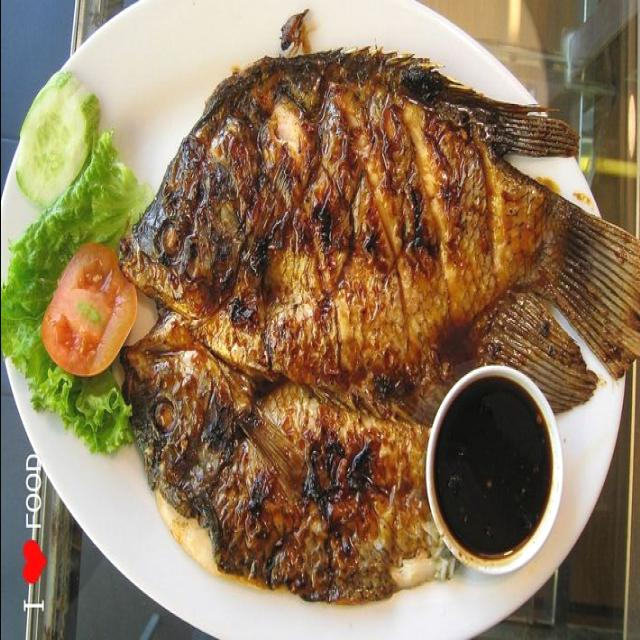ikan bakar: (119, 47, 640, 429), (126, 347, 453, 604)
